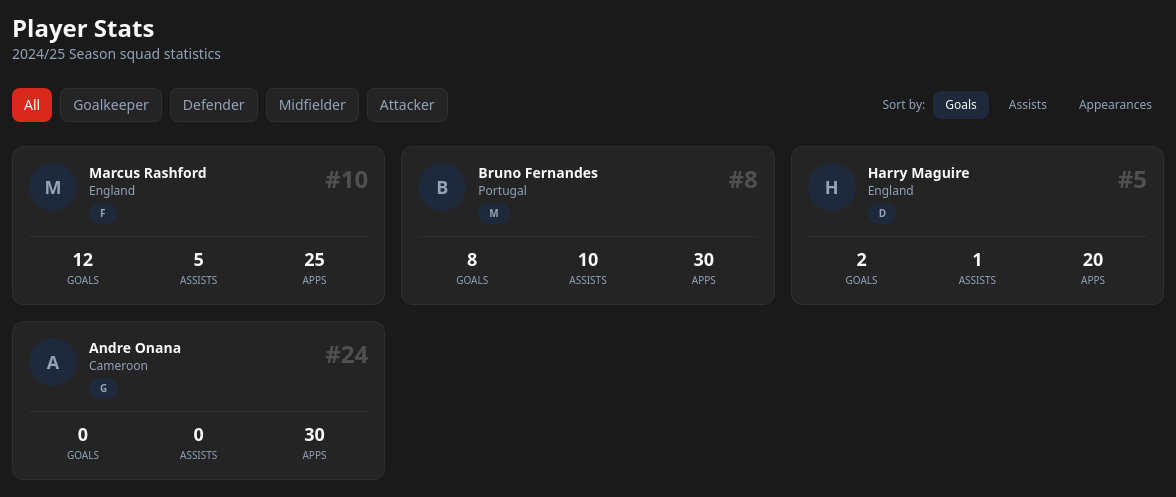
Test: PlayerStatsPage › filters by Defender position
The width and height of the screenshot is (1176, 497).
Step 1. Click the button "Defender" → (214, 105), box [170,88,258,122]
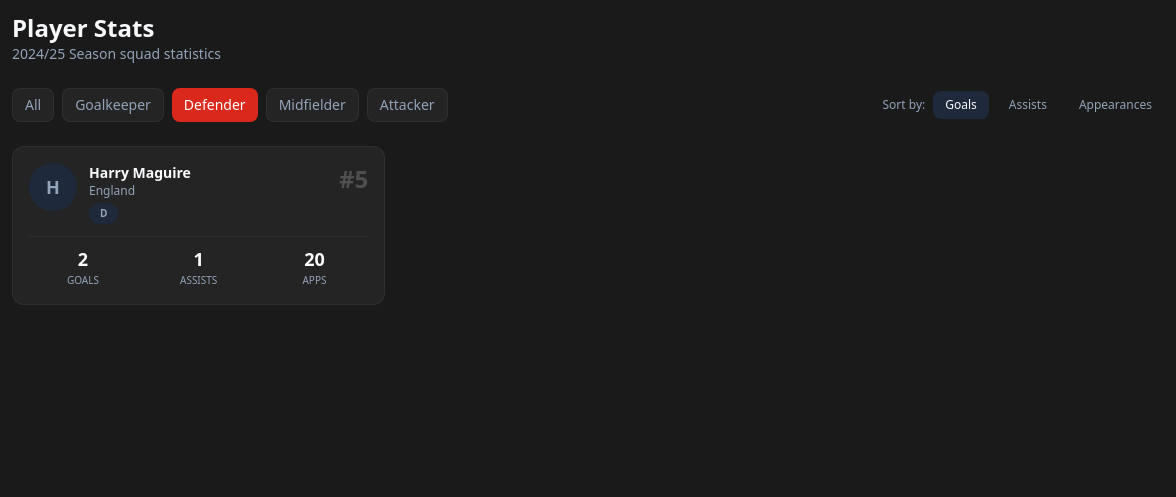
Expected: the text "Harry Maguire" is shown, [89,163,191,182]
Now the text "Bruno Fernandes" is gone
